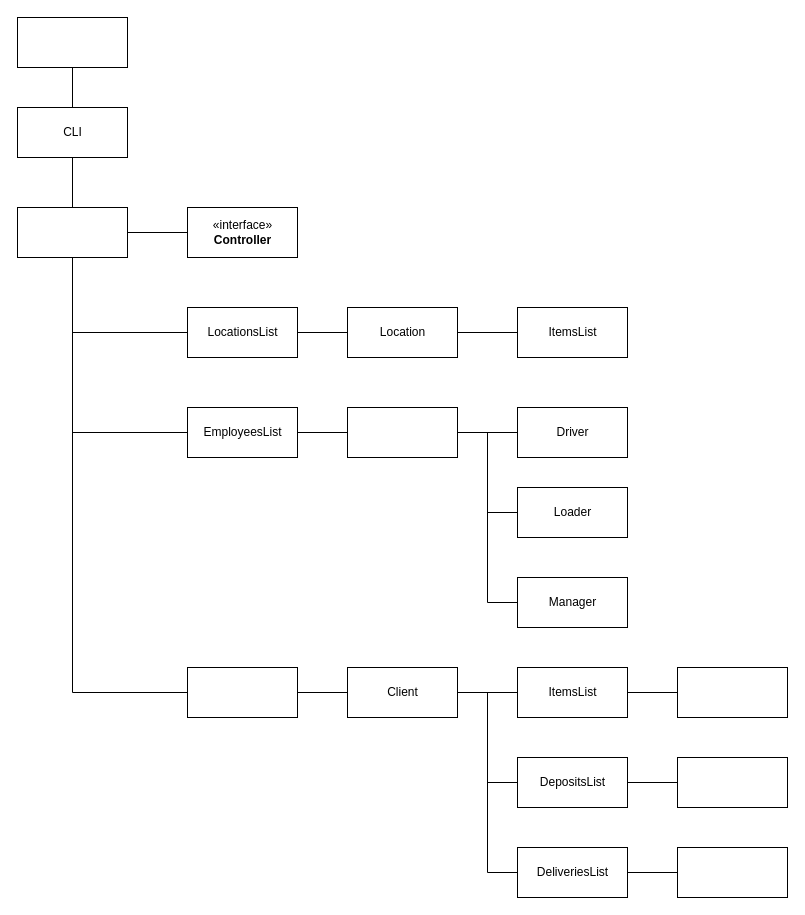
Image size: 805x915. Some labels were removed from this diagram. Each missing label, with the centre of its shape:
ClientsList: the point at 242,692
ControllerClass: the point at 72,232
Delivery: the point at 732,872
Deposit: the point at 732,782
Employee: the point at 402,432
Item: the point at 732,692
Program: the point at 72,42
